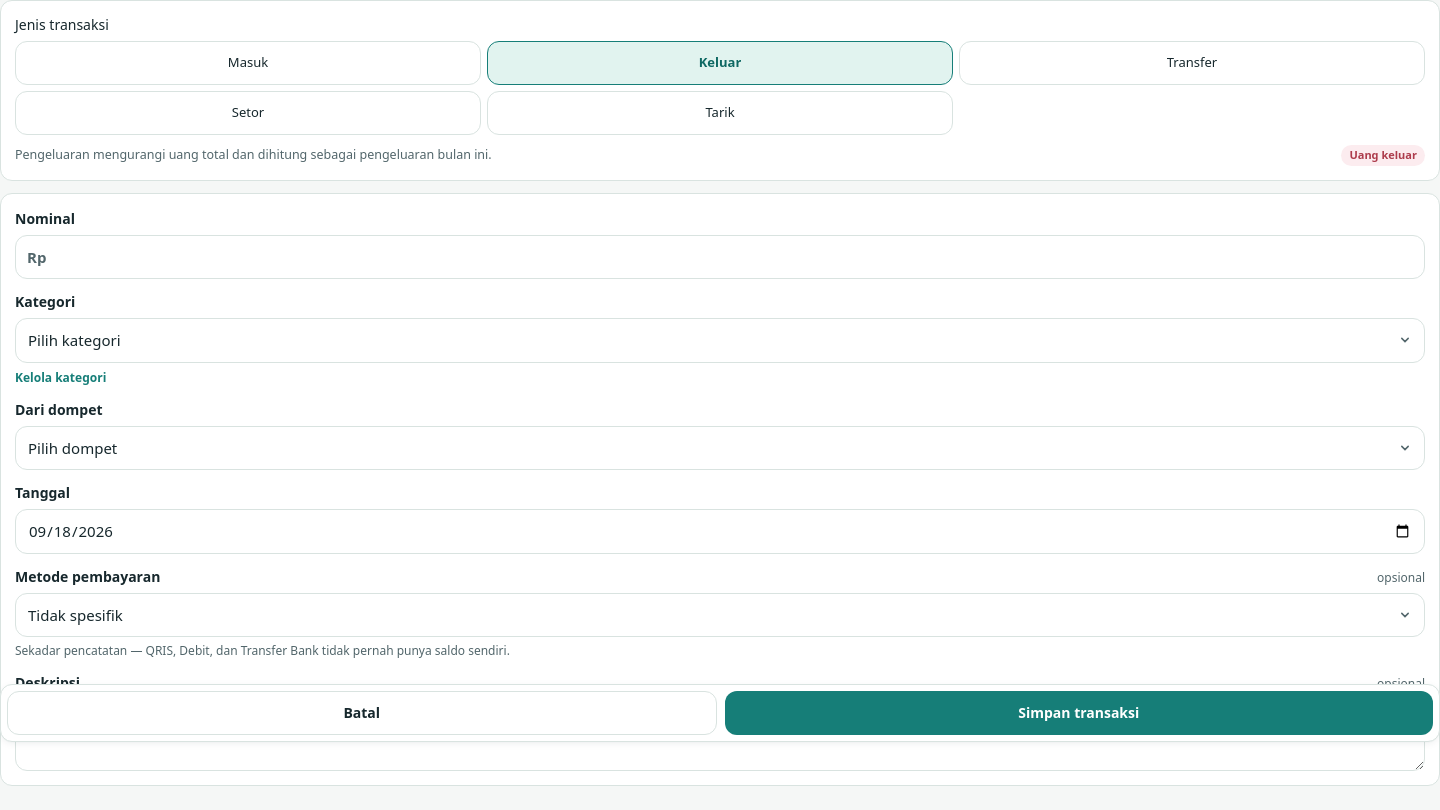
Scenario: Transactions Phase 2C UX › adapts the form fields by type without showing irrelevant payment metadata
Expected: the dropdown labelled "Kategori" is shown, [15, 318, 1425, 362]
Expected: the dropdown labelled "Dari dompet" is shown, [15, 426, 1425, 470]
Click the button "Transfer": (1192, 63) [959, 41, 1425, 85]
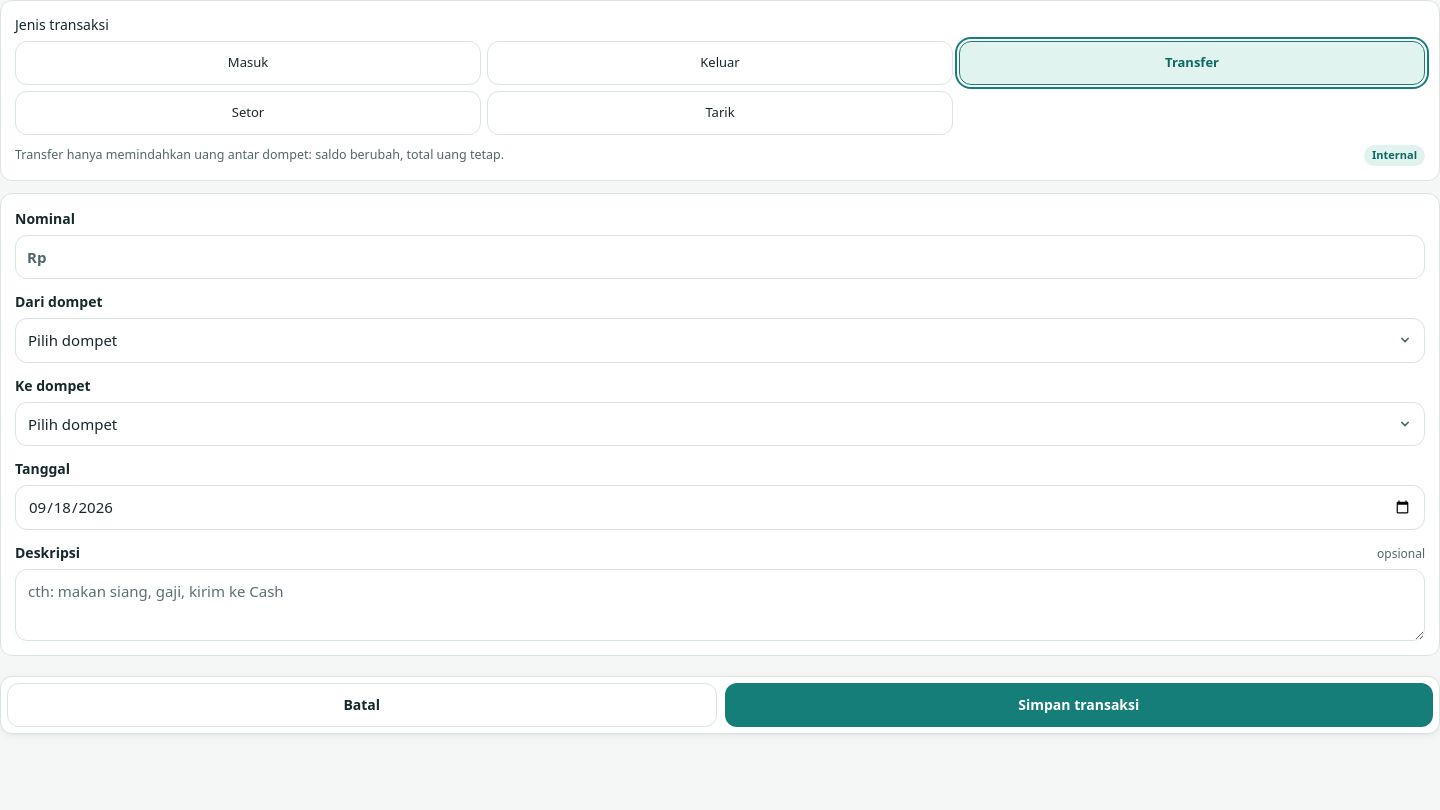
Expected: the dropdown labelled "Ke dompet" is shown, [15, 402, 1425, 446]
Expected: the text labelled "Kategori" is gone
Expected: the text labelled "Metode pembayaran" is gone
Click the button "Setor": (248, 113) [15, 91, 481, 135]
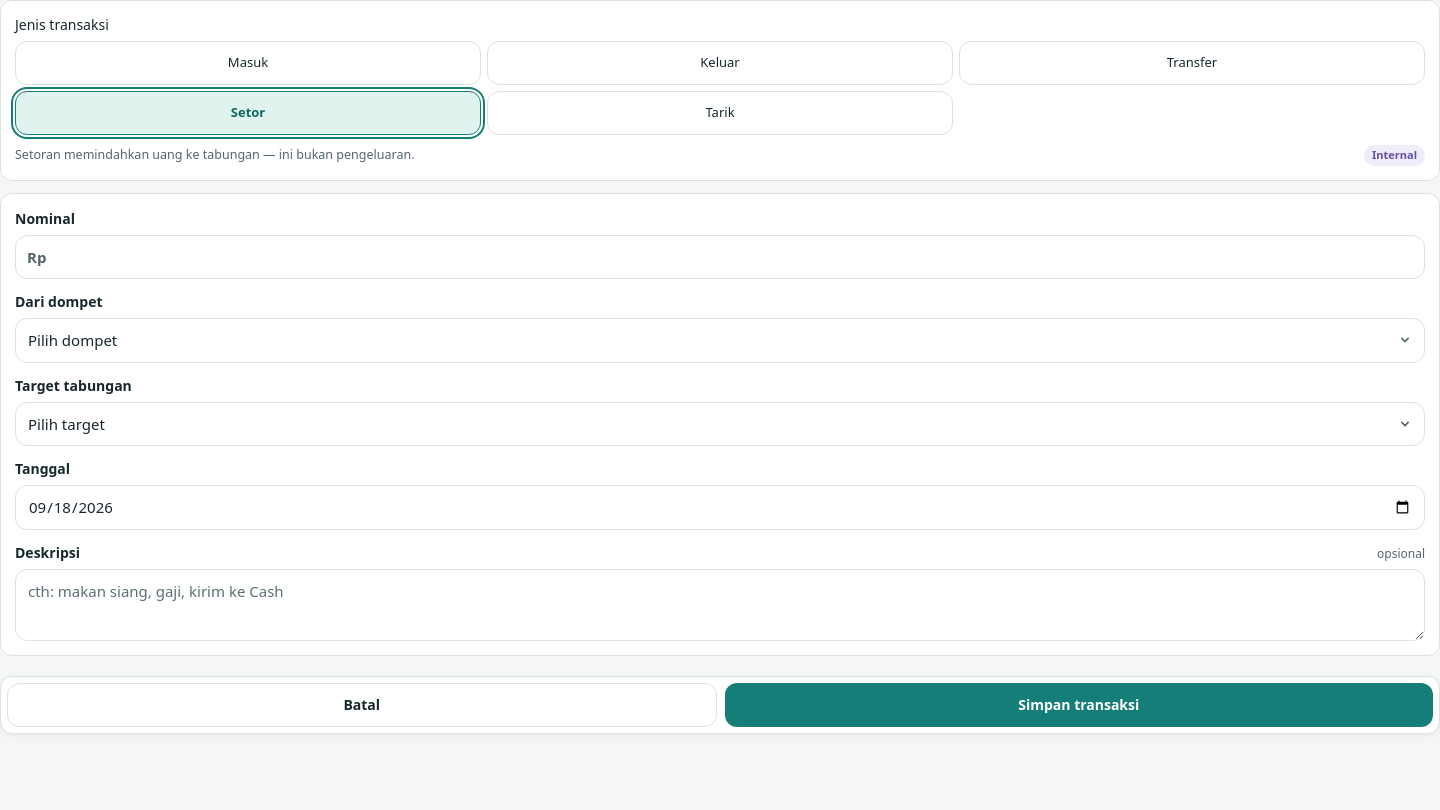
Expected: the dropdown labelled "Dari dompet" is shown, [15, 318, 1425, 362]
Expected: the dropdown labelled "Target tabungan" is shown, [15, 402, 1425, 446]
Expected: the text labelled "Ke dompet" is gone
